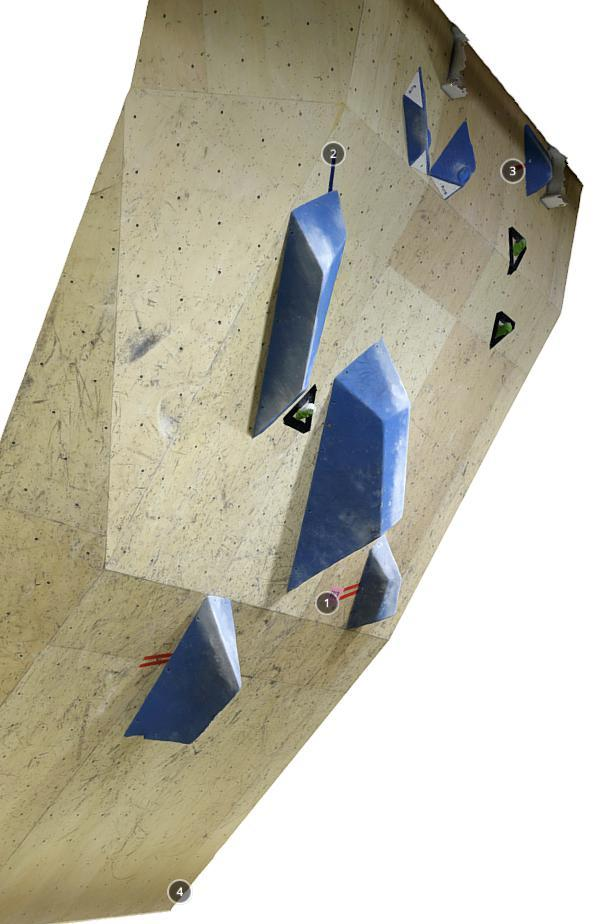hold: (286, 335, 412, 593), (253, 188, 347, 442), (124, 597, 242, 745), (345, 534, 402, 630), (430, 121, 477, 201), (403, 67, 431, 176), (524, 125, 552, 198), (282, 384, 316, 433), (489, 311, 516, 350), (506, 226, 527, 275)
